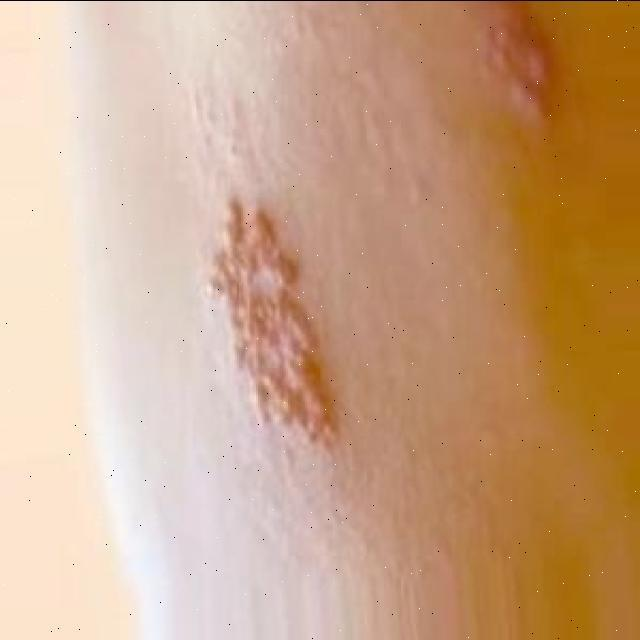Shingles: (207, 193, 342, 453), (486, 0, 555, 129)
